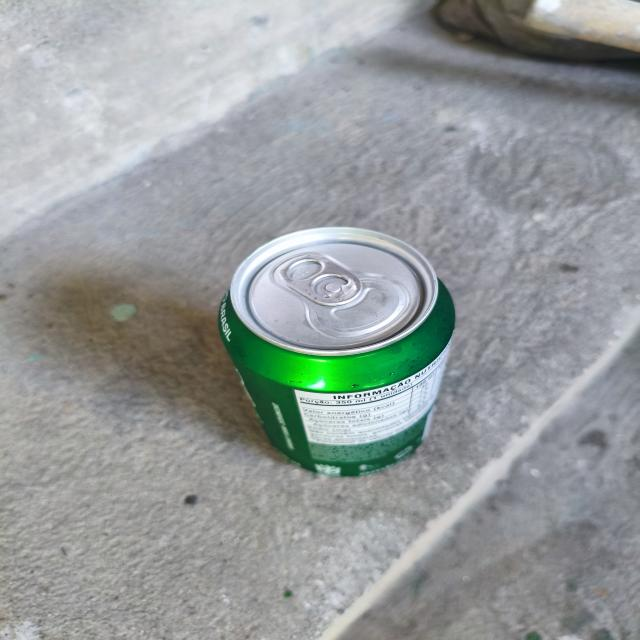Guarana: (178, 211, 498, 508)
